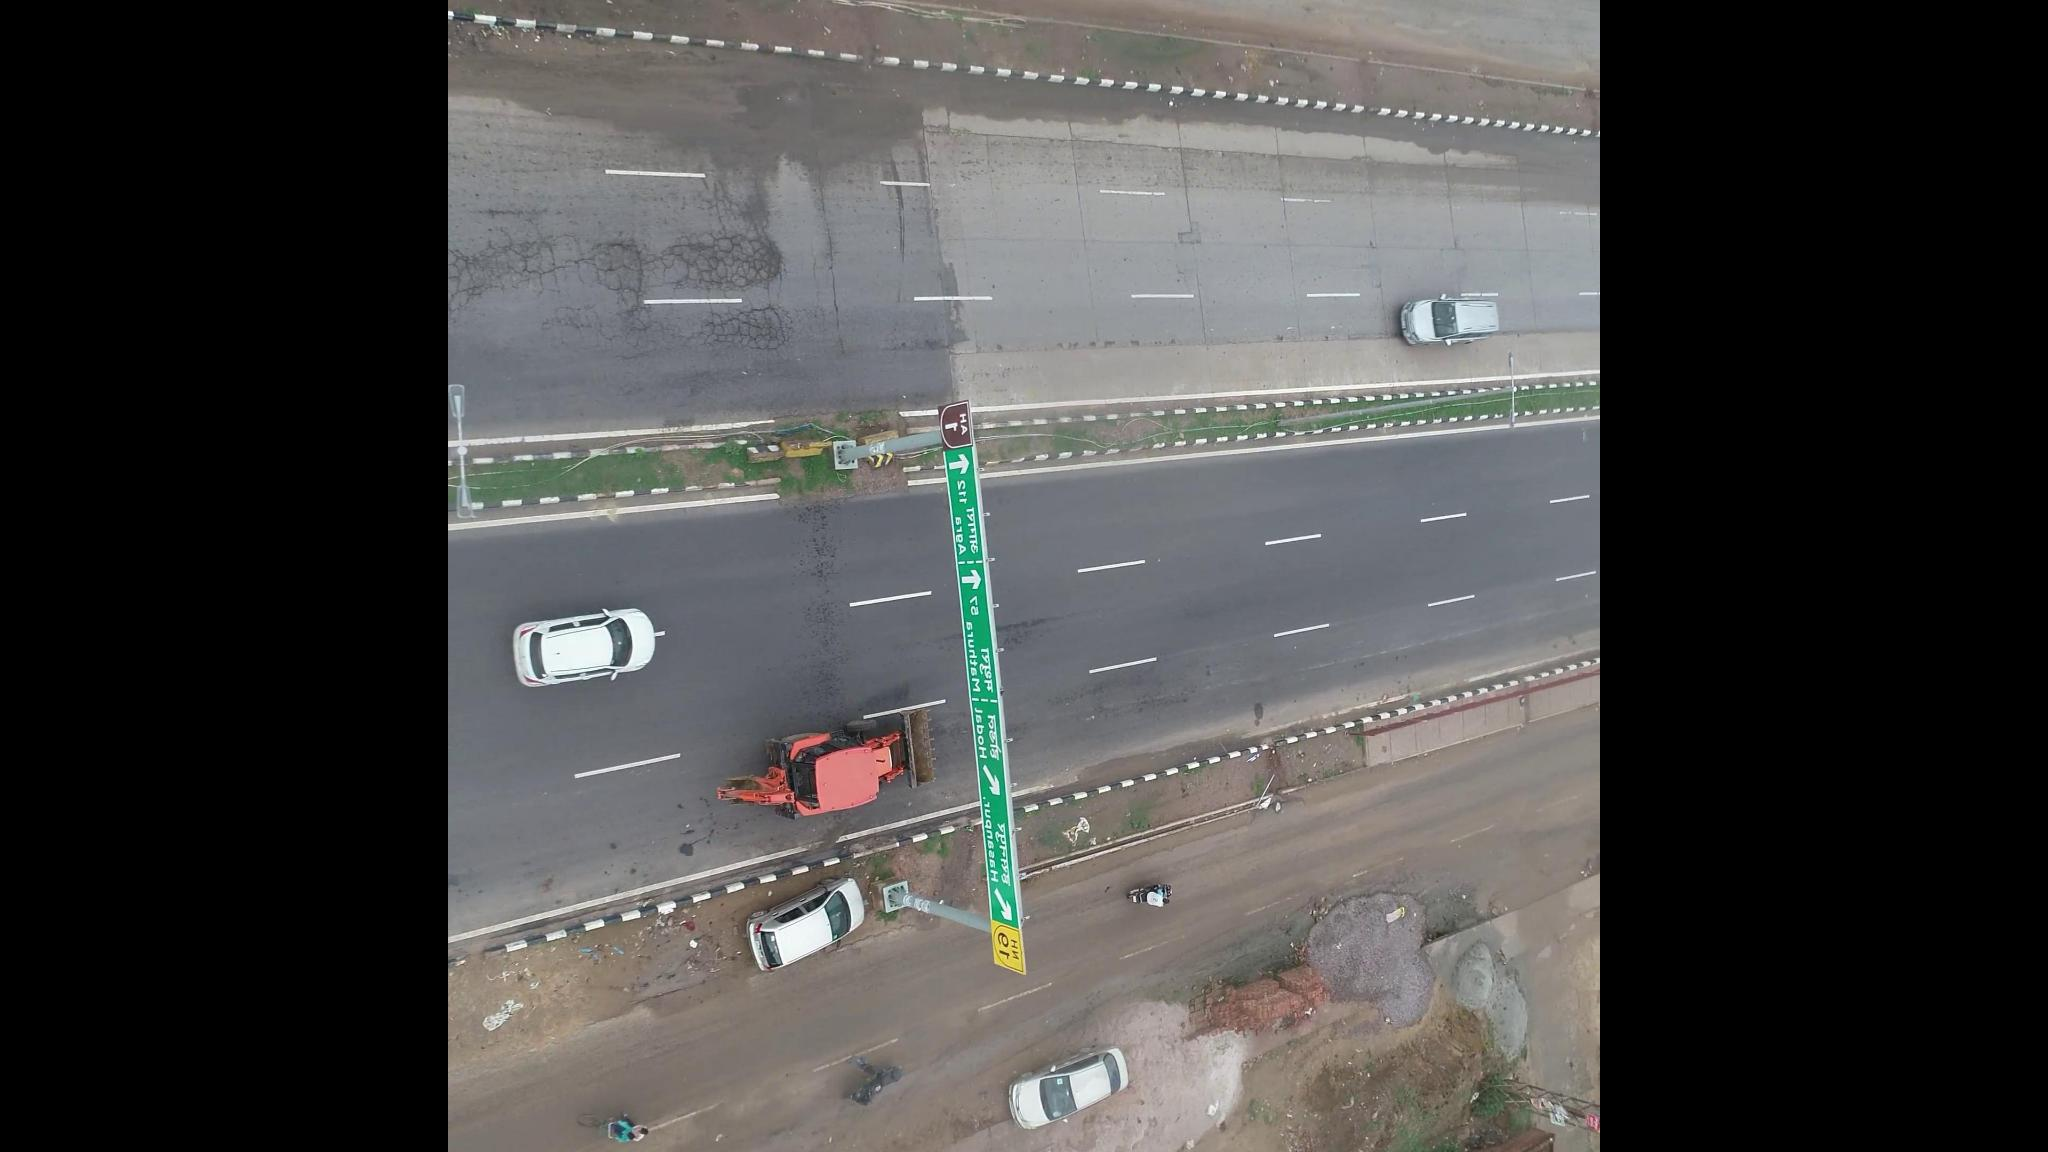Cracks: (452, 184, 805, 359)
Ravelling: (796, 512, 854, 708)
